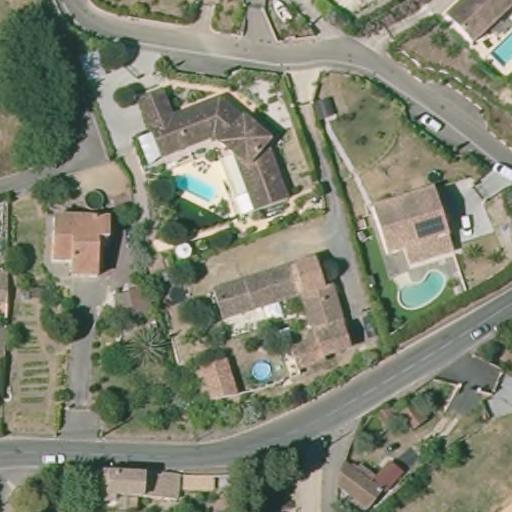pool: (164, 166, 224, 209), (390, 270, 449, 311), (488, 22, 511, 78), (244, 356, 276, 386)
